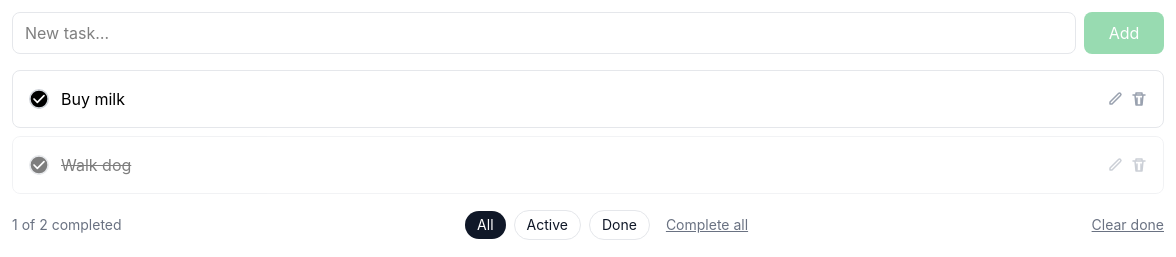
Test: TaskList › only active tasks are shown when the Active filter is selected
Expected: the text "Buy milk" is shown, top-left (61, 89), bottom-right (125, 109)
Click the button "Active". click: (547, 225)
box: top-left (514, 210), bottom-right (581, 240)
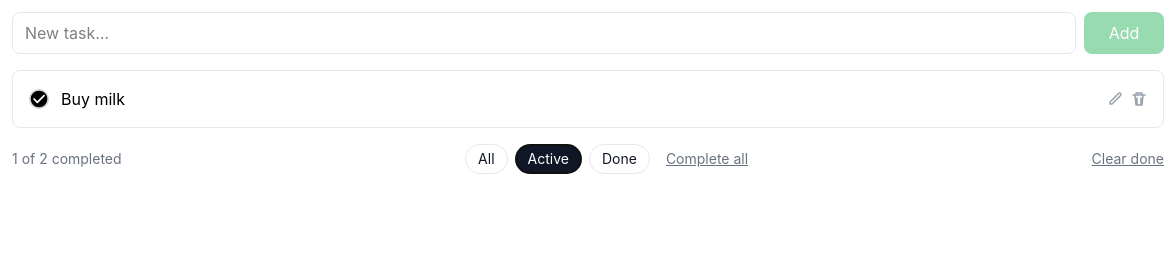
Expected: the text "Buy milk" is shown, top-left (61, 89), bottom-right (125, 109)
Now the text "Walk dog" is gone
